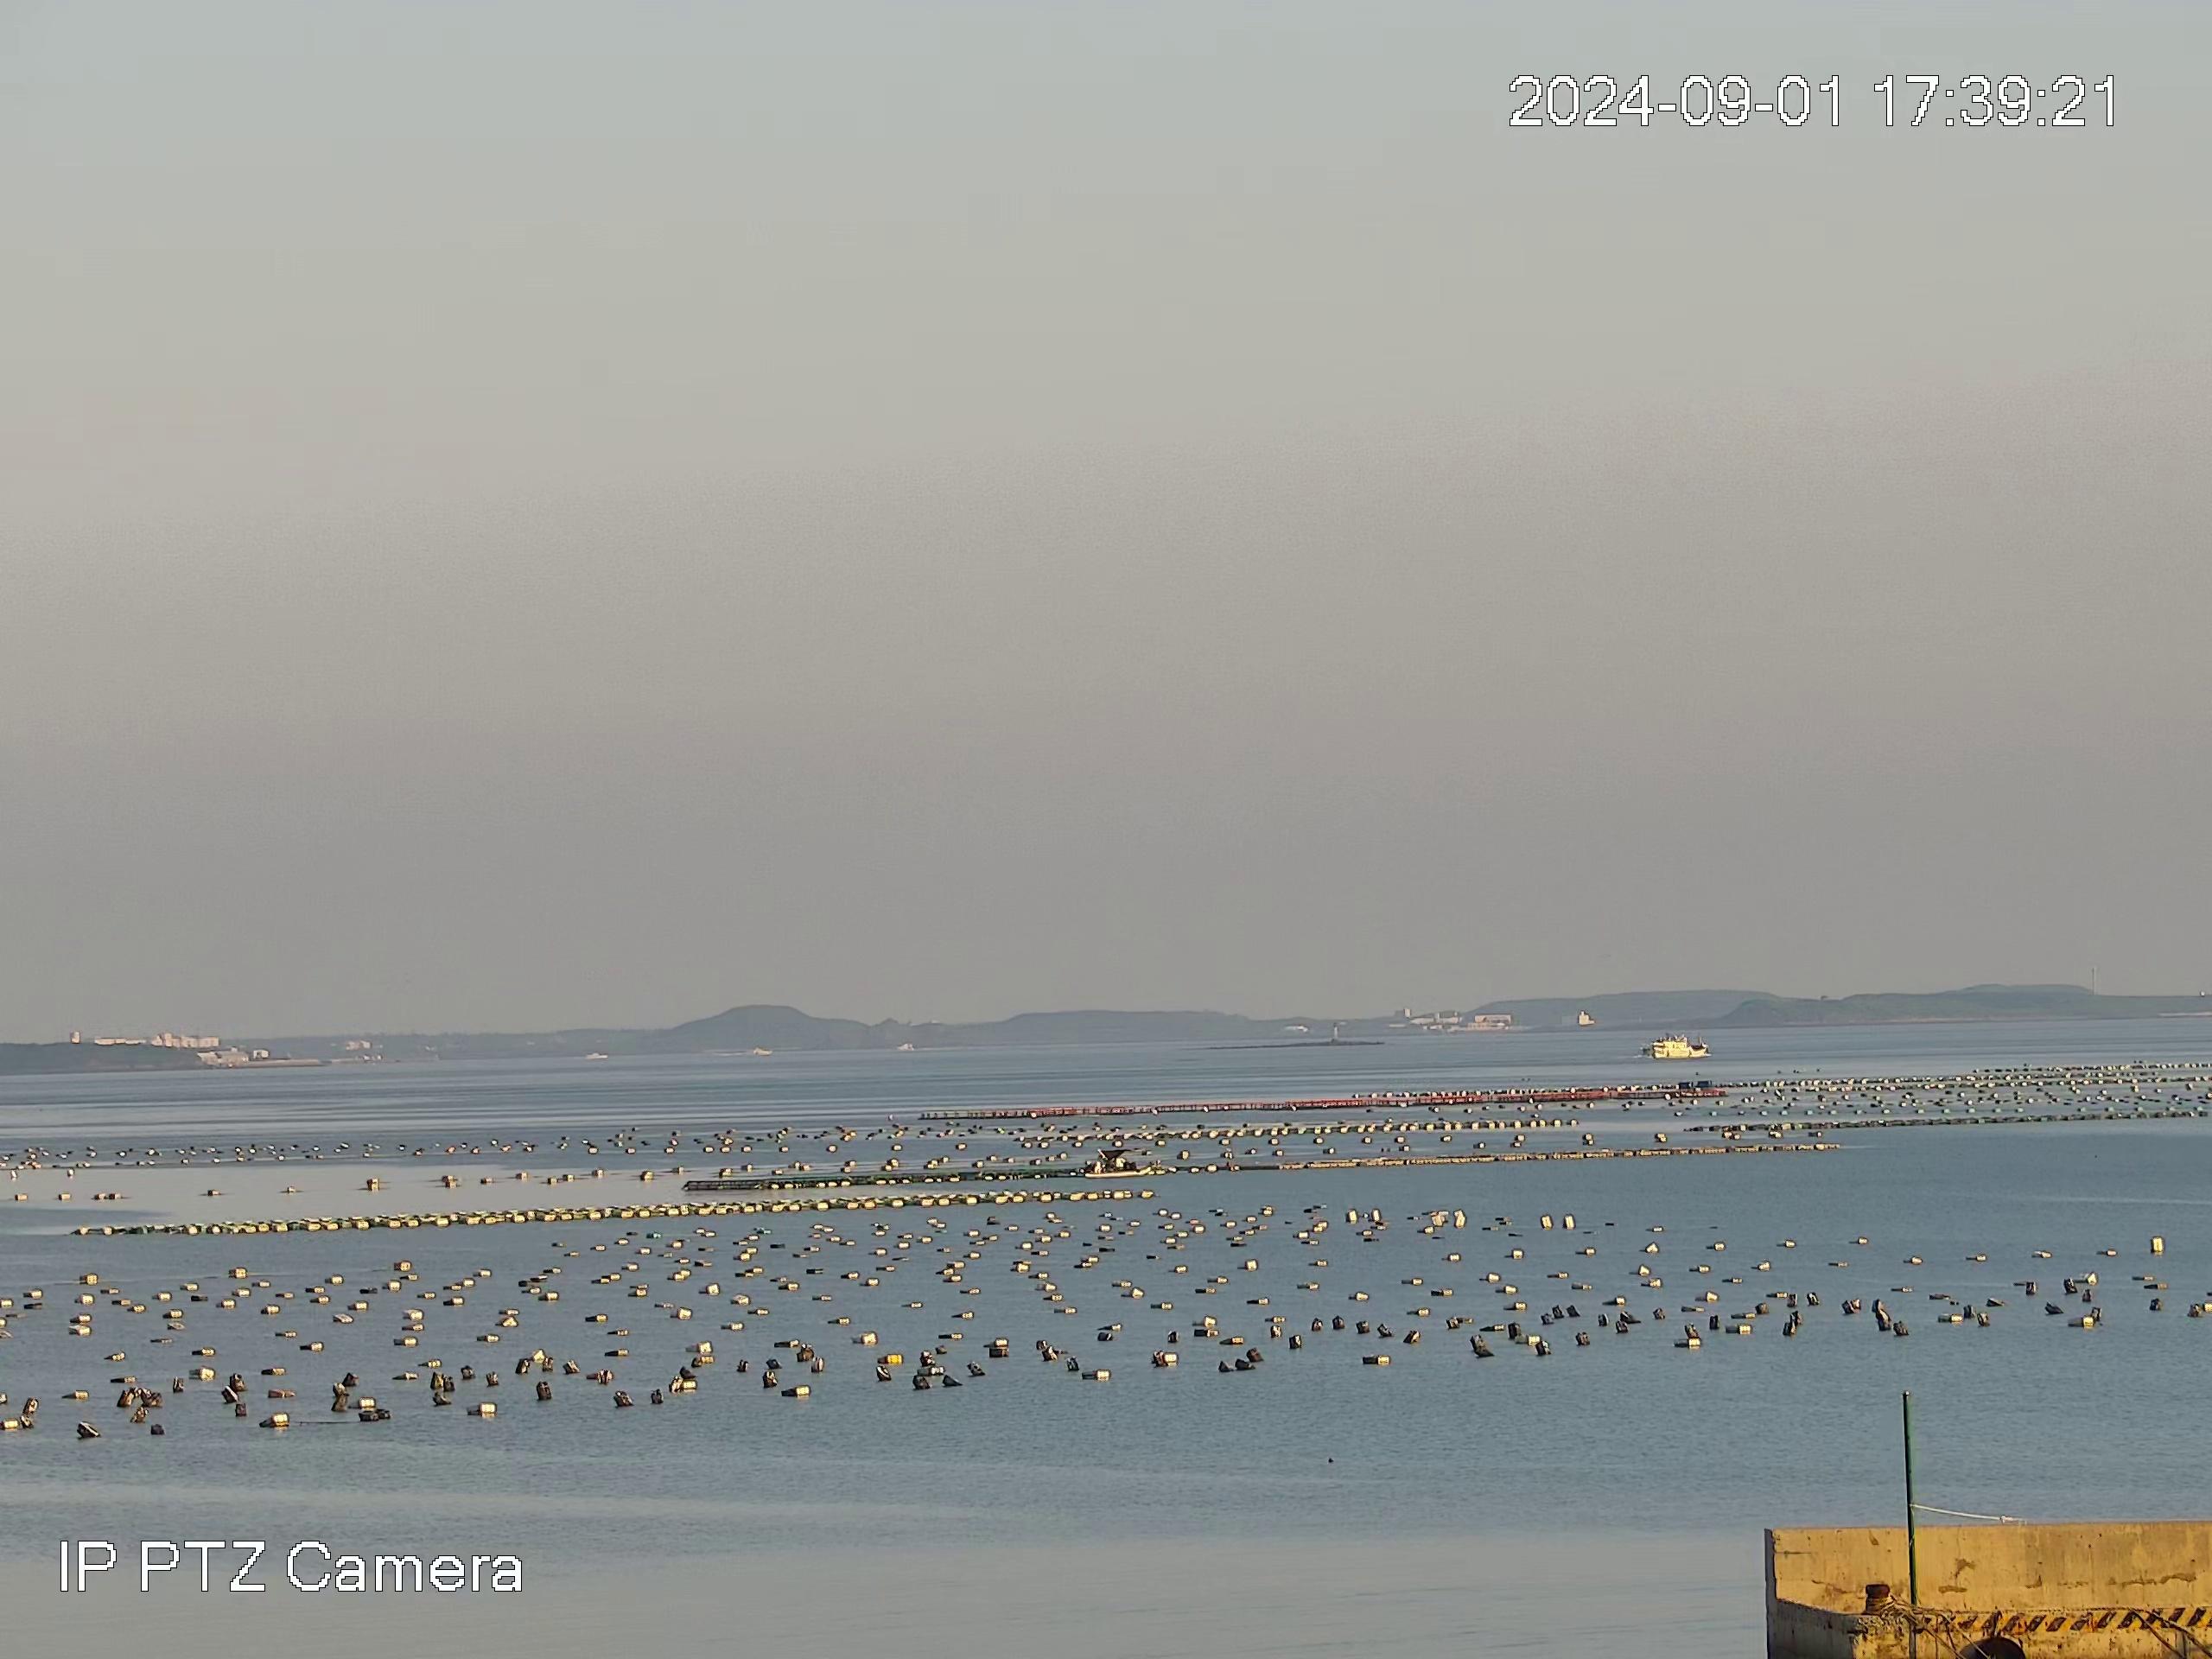boat: (1087, 1141, 1151, 1176), (1641, 1033, 1710, 1060)
